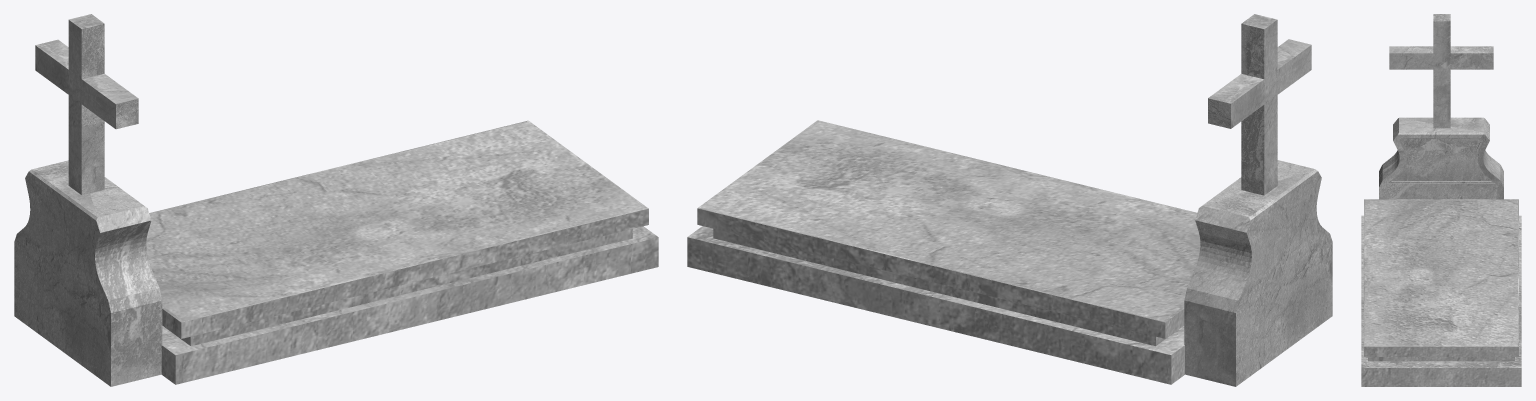
The model's file is grave.obj.
The picture shows the model from 3 angles, left to right: view 1: azimuth 30°, elevation 25°; view 2: azimuth 150°, elevation 25°; view 3: azimuth 270°, elevation 25°; orthographic projection. The views are drawn at different scales.
Parts seen in each view (by area): view 1: Form3, Form2, Form4; view 2: Form3, Form2, Form4; view 3: Form3, Form2, Form4.
Boxes of the visible parts, x1,y1,x2,y2 form: Form3: (146,120,658,384); Form2: (14,160,162,386); Form4: (35,14,138,195); Form3: (687,120,1200,384); Form2: (1184,160,1332,386); Form4: (1208,14,1311,195); Form3: (1361,199,1521,386); Form2: (1379,117,1503,199); Form4: (1389,14,1493,128).
Size of the model in its own units: 7.22 by 4.19 by 2.91.
